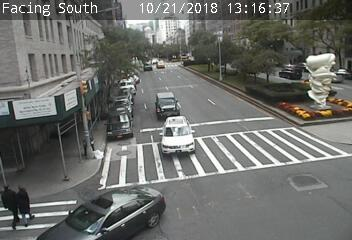car: (159, 120, 195, 154), (154, 95, 182, 119), (156, 59, 165, 67)
